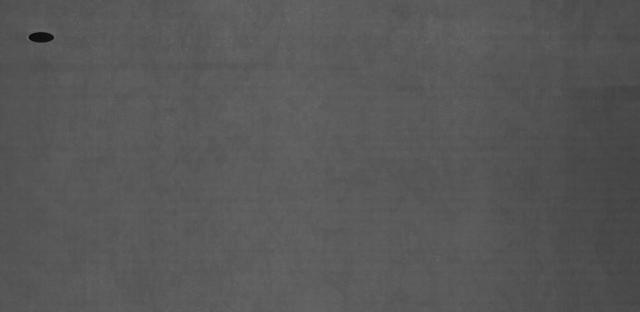punching_hole: (24, 30, 58, 44)
